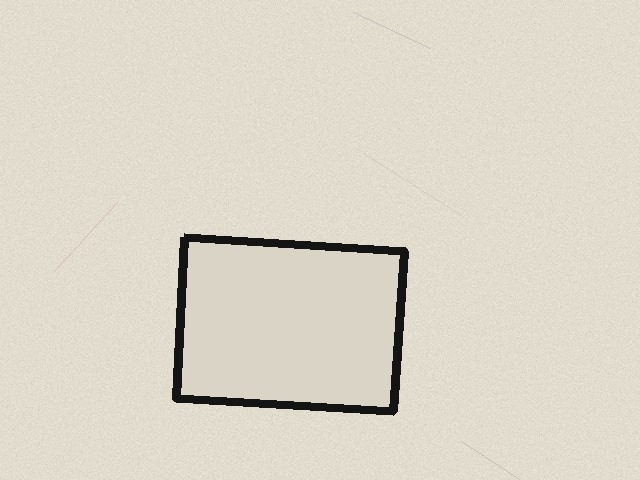parking_area: (176, 237, 404, 411)
